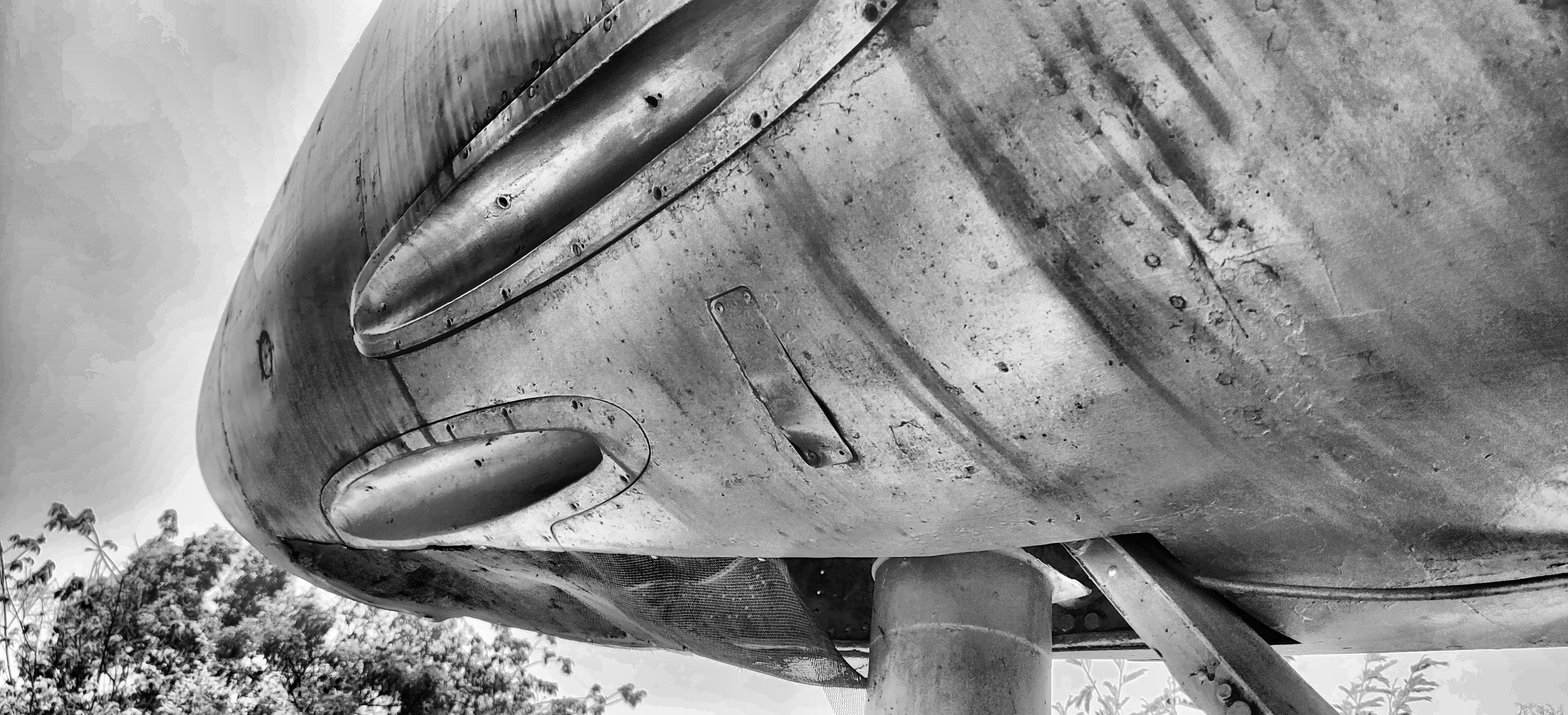dent: (1407, 514, 1568, 556), (787, 425, 828, 472), (815, 394, 844, 434)
missing-head: (864, 3, 878, 22), (496, 196, 510, 209), (646, 94, 660, 107), (653, 186, 664, 201), (752, 114, 762, 128), (501, 287, 510, 298), (571, 399, 579, 409), (619, 475, 628, 483), (483, 534, 492, 542), (445, 423, 452, 433), (569, 504, 580, 510), (542, 534, 550, 542), (501, 408, 508, 417), (838, 448, 845, 457), (395, 340, 401, 350), (463, 148, 468, 160), (400, 439, 405, 449), (447, 318, 452, 327)
scratch: (1190, 237, 1250, 341)
